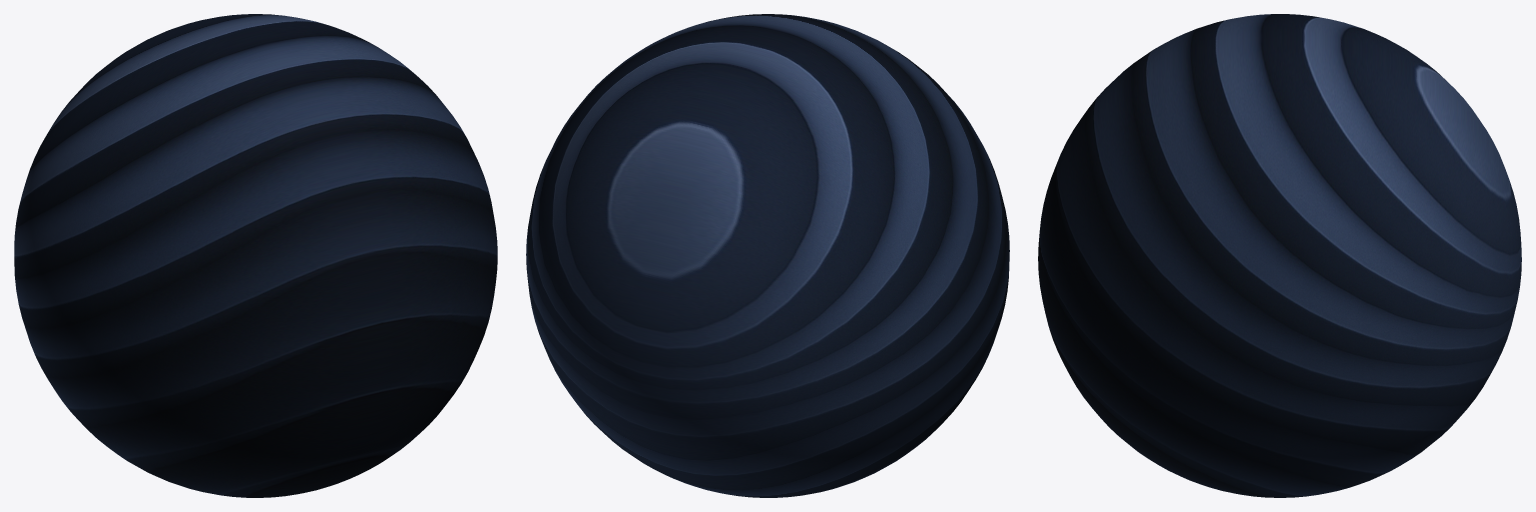
The model's file is ballasset.glb.
The picture shows the model from 3 angles, left to right: view 1: azimuth 30°, elevation 25°; view 2: azimuth 150°, elevation 25°; view 3: azimuth 270°, elevation 25°; orthographic projection.
Visible parts, largest first — view 1: meshes_0; view 2: meshes_0; view 3: meshes_0.
Part boxes in pixels (x1=…): meshes_0: x1=14, y1=14, x2=497, y2=497; meshes_0: x1=526, y1=14, x2=1009, y2=497; meshes_0: x1=1038, y1=14, x2=1521, y2=497.
Bounding box in the file's own units: 1.95 × 1.95 × 1.95.
1 material, 1 textured.
